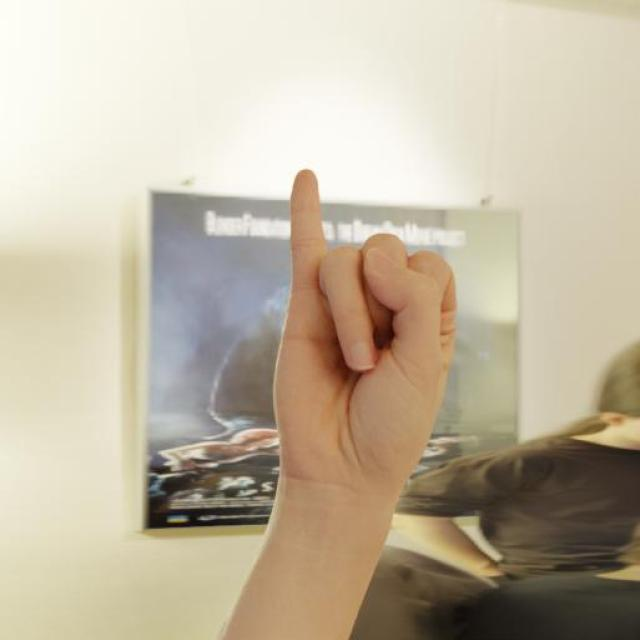I: (261, 157, 474, 506)
